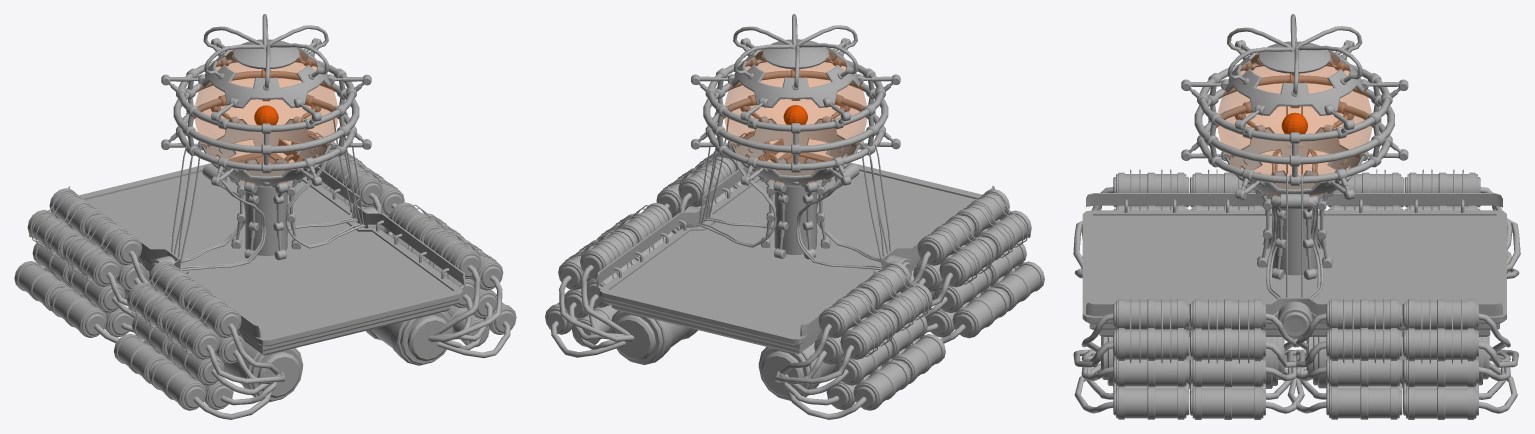
The model's file is OrbPlat.fbx.
3 renders of one model, left to right at view 1: azimuth 30°, elevation 25°; view 2: azimuth 150°, elevation 25°; view 3: azimuth 270°, elevation 25°, orthographic. The views are drawn at different scales.
Parts seen in each view (by area): view 1: curve5; view 2: curve5; view 3: curve5.
Part boxes in pixels (box(x1,y1,x2,y2)): curve5: box(14, 14, 516, 419); curve5: box(545, 14, 1044, 419); curve5: box(1073, 14, 1520, 419).
Size of the model in its own units: 13.38 by 10.82 by 14.22.
